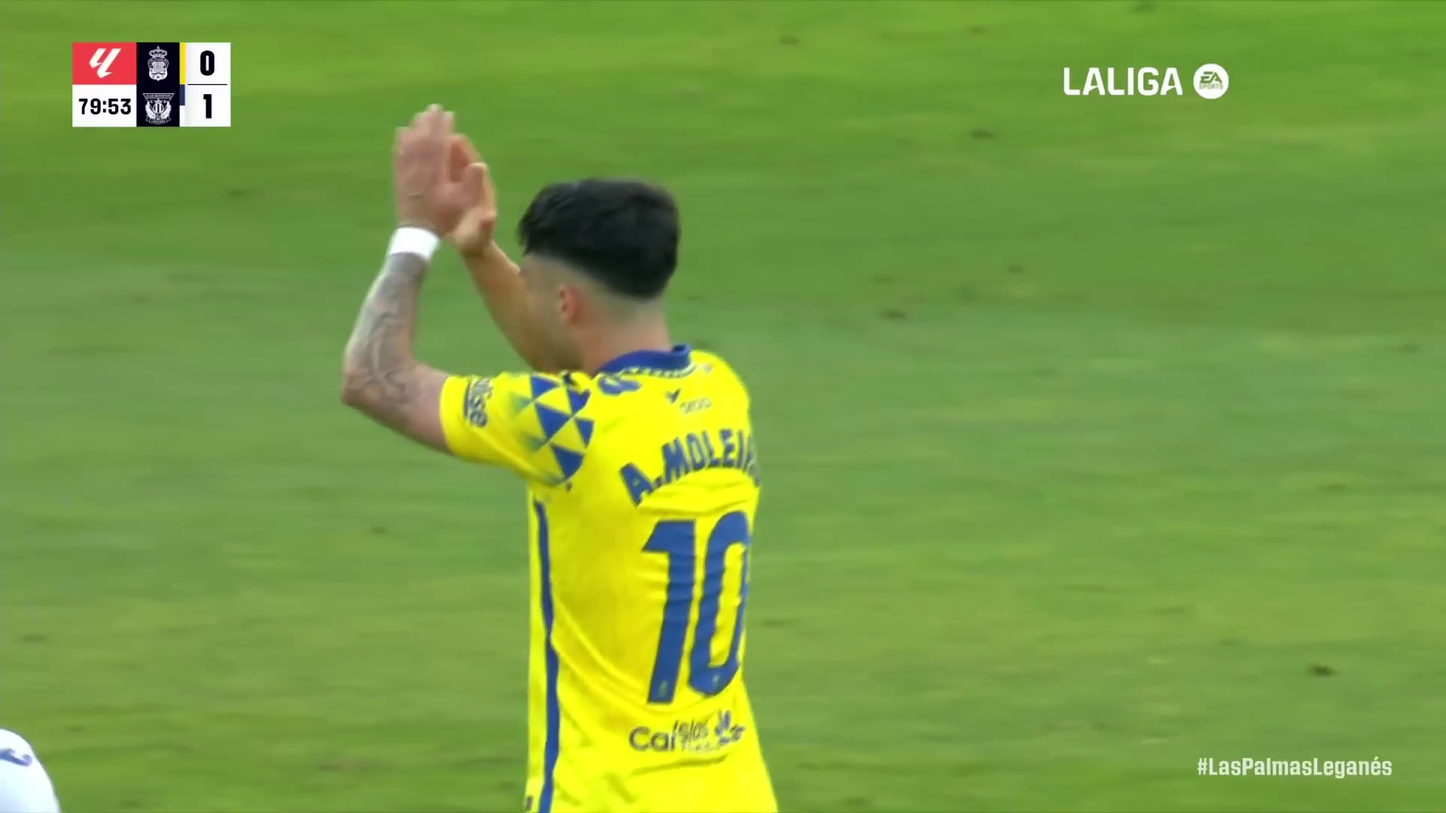player: (339, 100, 780, 813)
